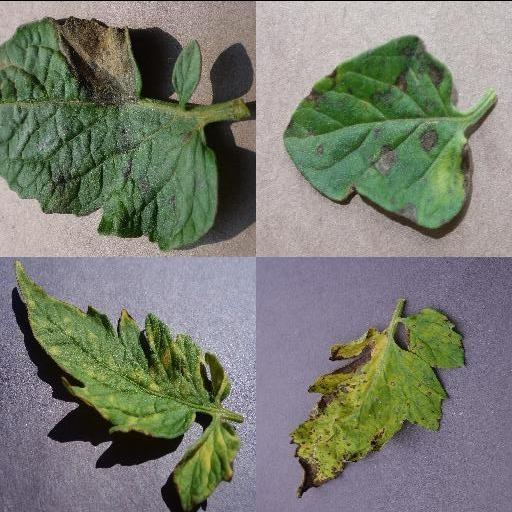Early Blight: (279, 35, 475, 226)
Late Blight: (0, 14, 219, 254)
Leaf Mold: (14, 258, 204, 436), (170, 418, 242, 512)
Septoria: (290, 306, 466, 496)
